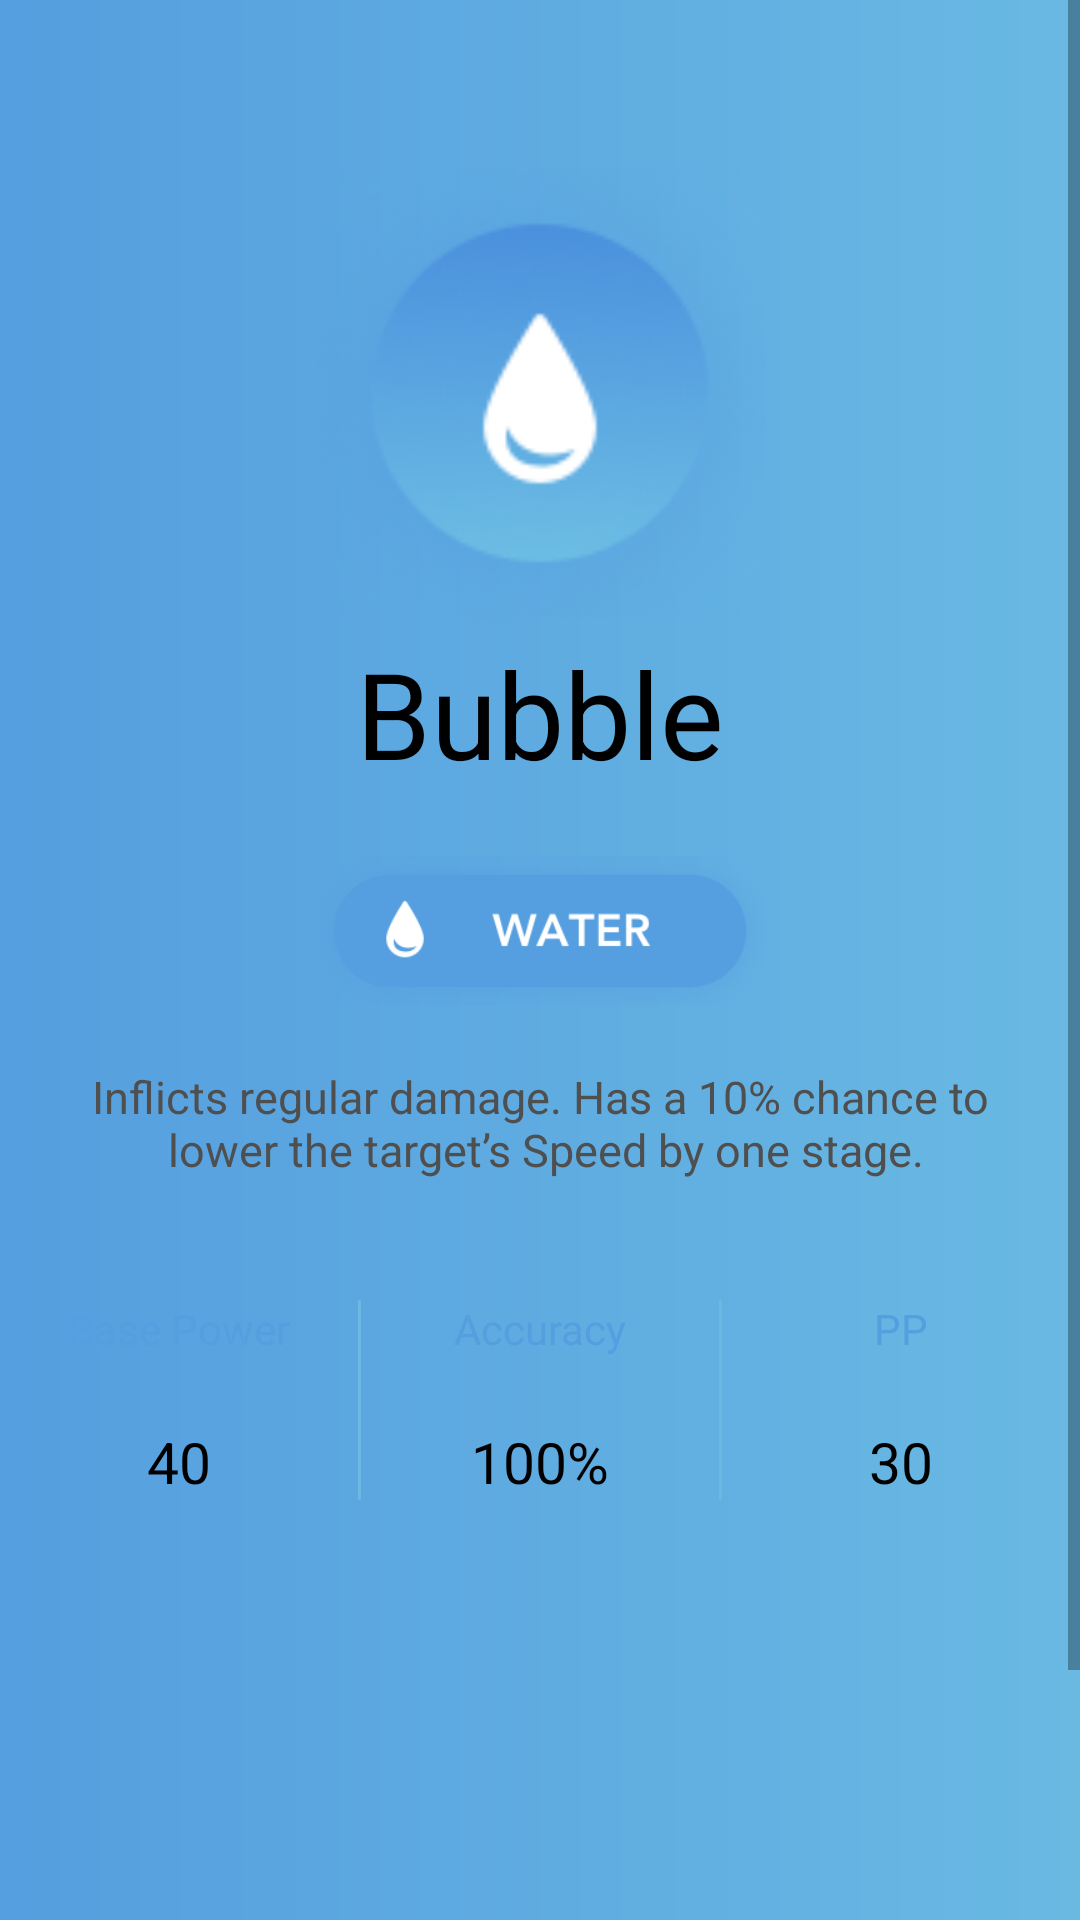

Locate icon controls on the screen. Image size 1080px x 1920px, boxes as (x1, y1, x2, y2).
type water: (482, 313, 598, 484)
